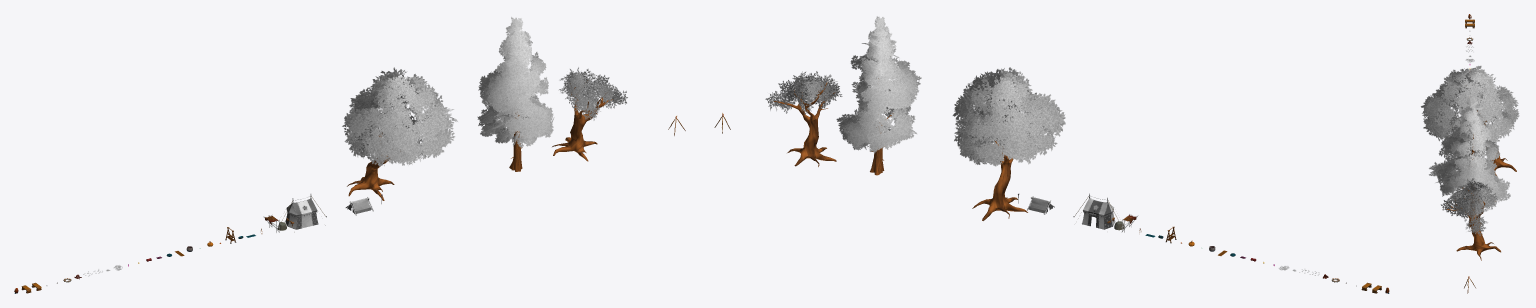
The model's file is campsite-kit.glb.
3 renders of one model, left to right at view 1: azimuth 30°, elevation 25°; view 2: azimuth 150°, elevation 25°; view 3: azimuth 270°, elevation 25°, orthographic. The views are drawn at different scales.
Visible parts, largest first — view 1: TreeA, TreeB, TreeC, Tent; view 2: TreeA, TreeB, TreeC, Tent; view 3: TreeA, TreeB, TreeC.
Boxes of the visible parts, <box> form: TreeA: <box>342,67,457,200</box>; TreeB: <box>477,17,554,171</box>; TreeC: <box>552,67,627,161</box>; Tent: <box>277,194,326,232</box>; TreeA: <box>952,67,1065,220</box>; TreeB: <box>836,16,921,175</box>; TreeC: <box>765,71,842,166</box>; Tent: <box>1073,193,1123,229</box>; TreeA: <box>1421,65,1519,176</box>; TreeB: <box>1429,95,1510,226</box>; TreeC: <box>1441,178,1500,260</box>.
Size of the model in its own units: 131 by 28.86 by 20.78.
40 materials, 38 textured.
